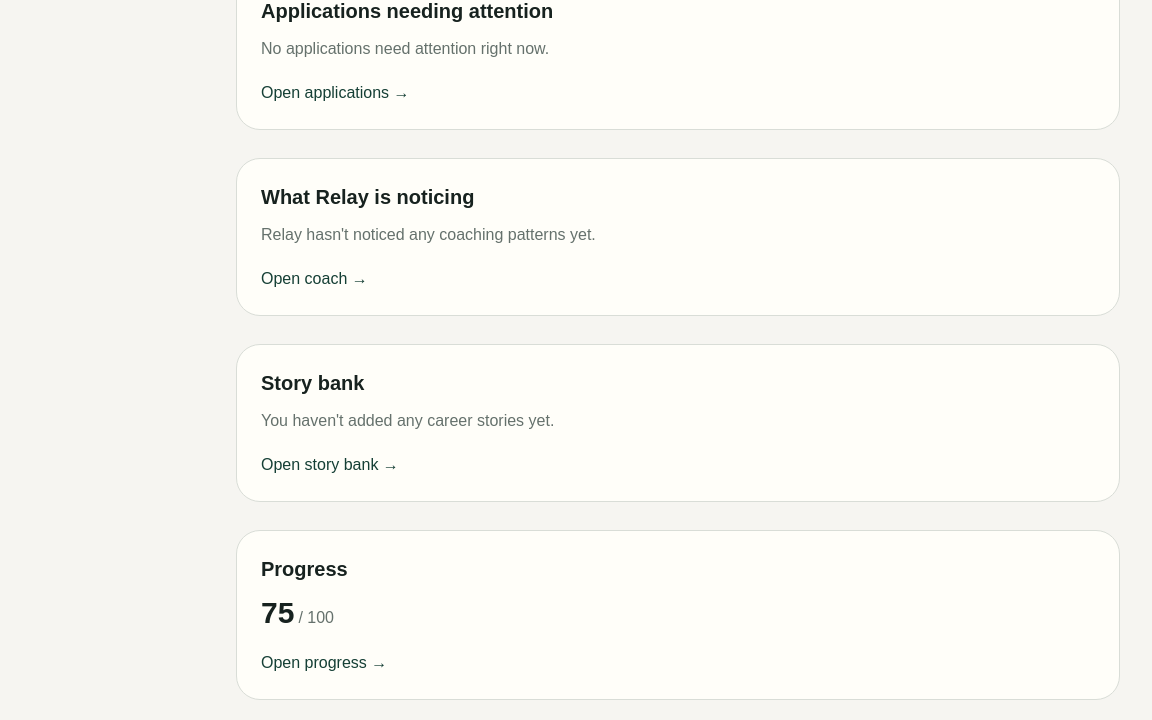
App progress view › shows practice-first readiness guidance on the progress view when the profile is sparse
(page scrolled)
Click the button "Open progress →" at (324, 663), box x1=261 y1=651 x2=387 y2=675
(page scrolled)
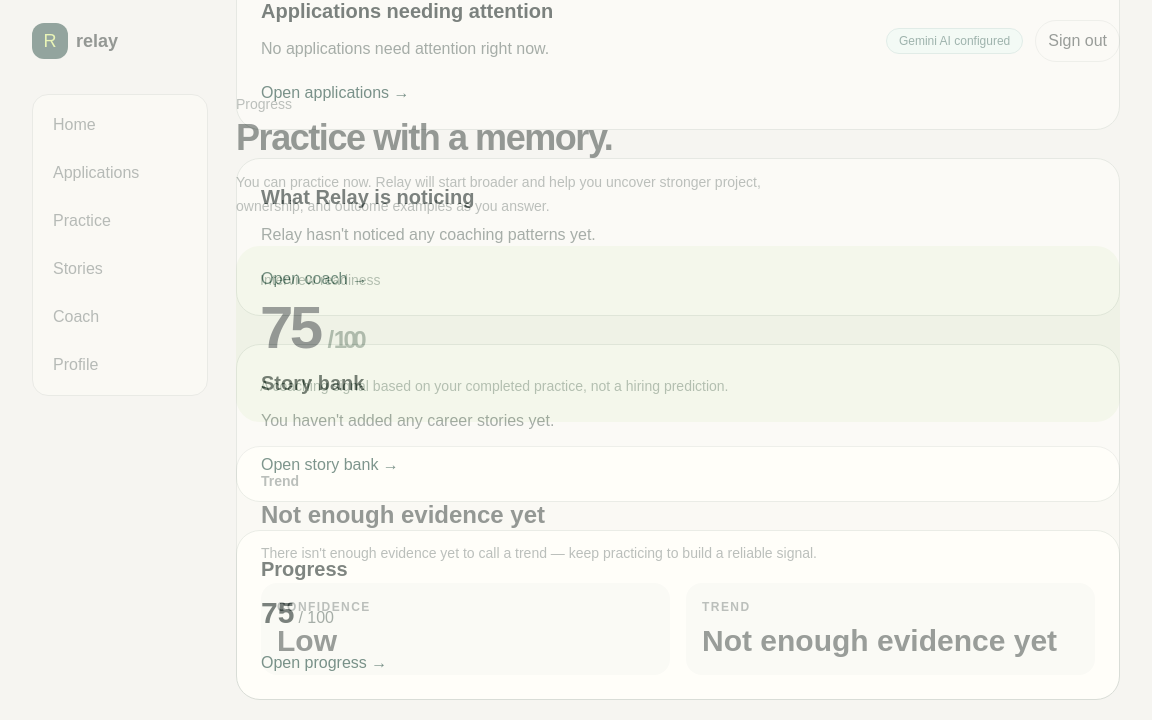
Expected: the text "help you uncover stronger" is shown, x1=236 y1=174 x2=761 y2=214
Result: the heading "Practice with a memory." is shown at x1=236 y1=117 x2=612 y2=158
